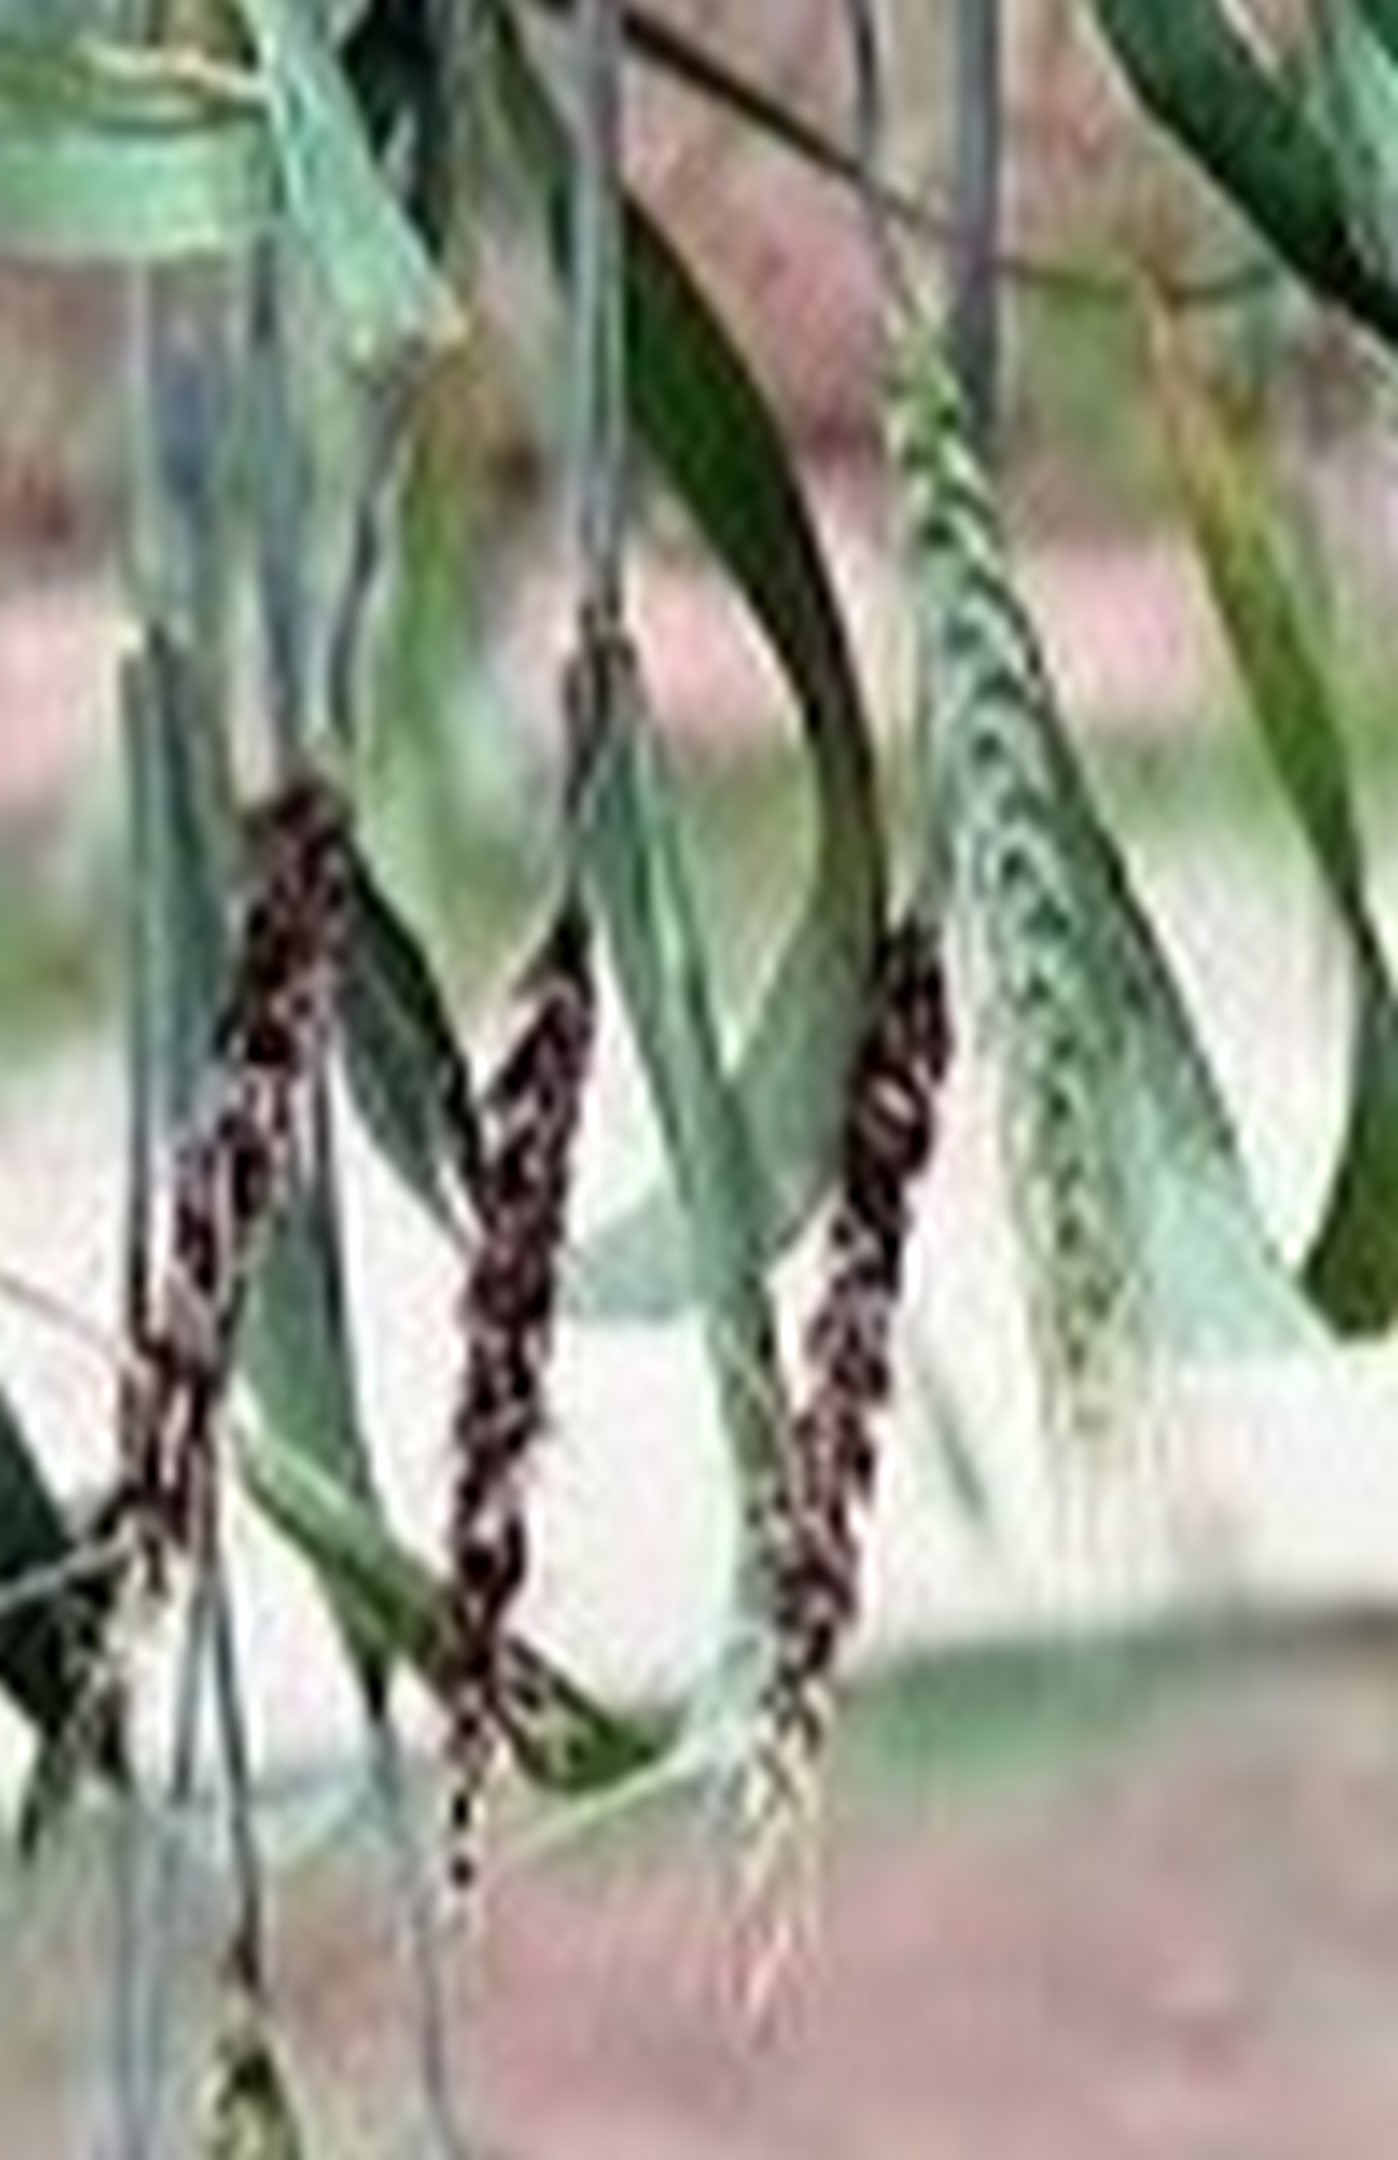Wheat Loose Smut: (146, 822, 951, 1798)
